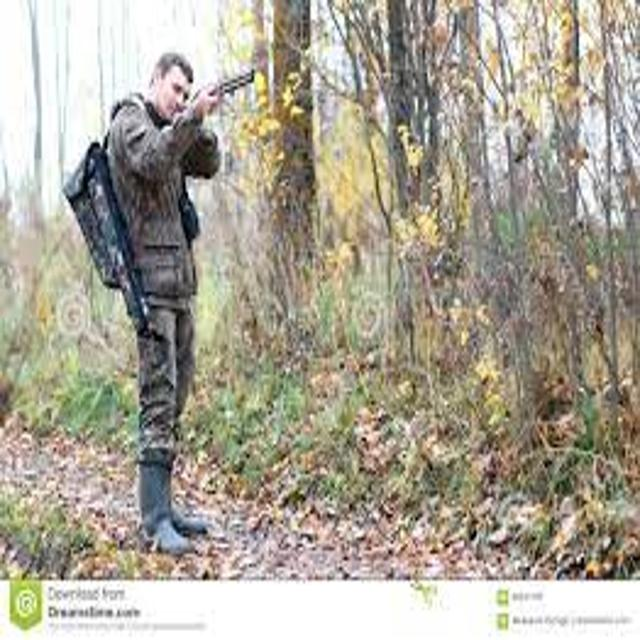backpack: (54, 129, 167, 348)
gun: (146, 52, 278, 158)
poacher: (50, 33, 331, 570)
